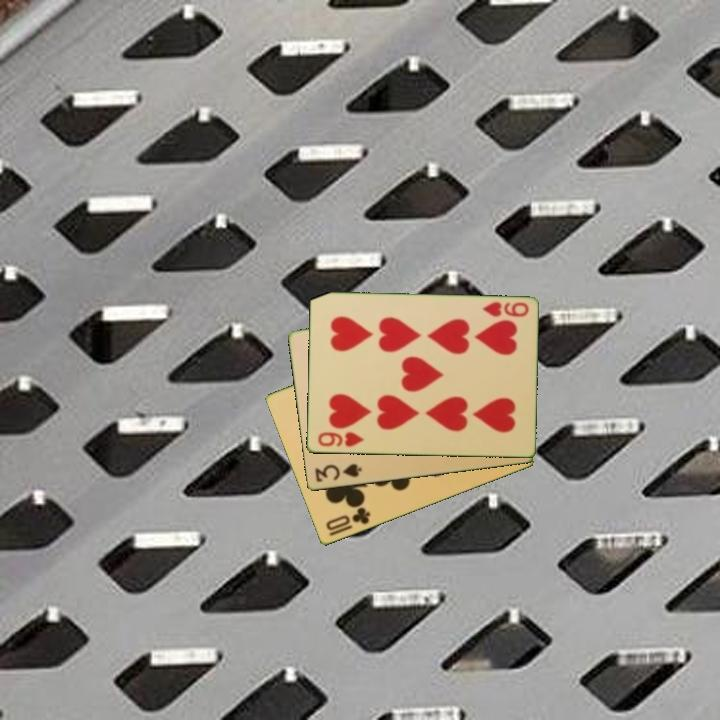10c: (322, 504, 373, 534)
3s: (311, 460, 364, 485)
9h: (479, 298, 531, 320), (314, 429, 366, 450)
